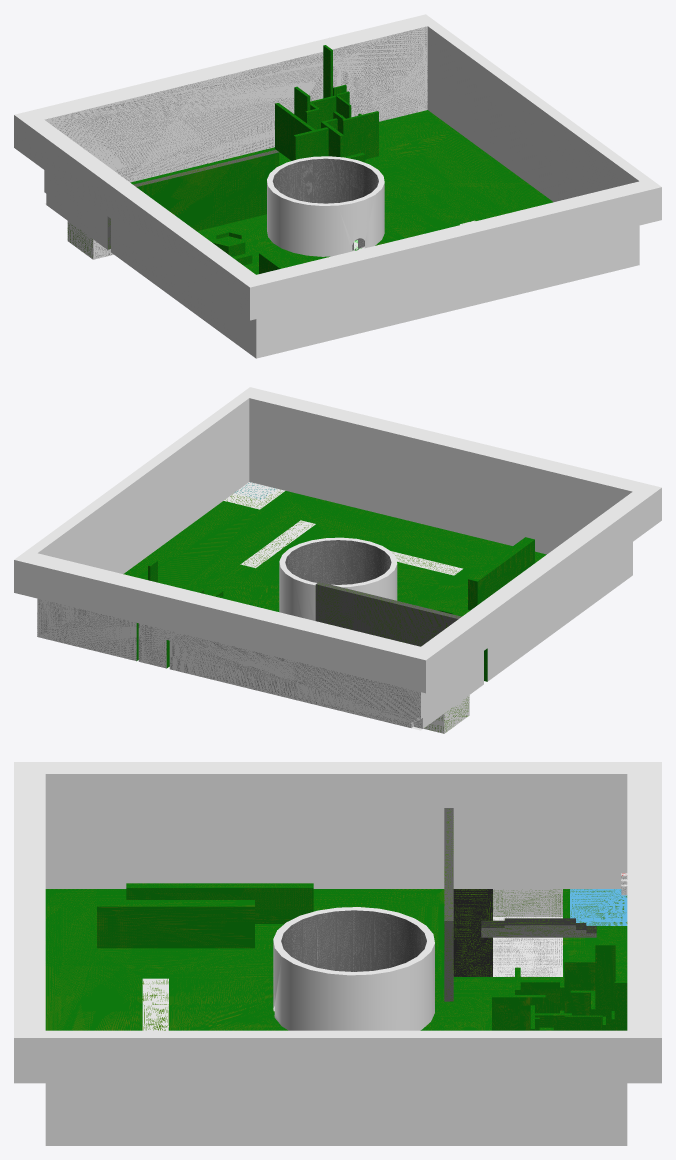
The model's file is AMazeIngMap.dae.
3 views of the same model, one above another, from view 1: azimuth 30°, elevation 25°; view 2: azimuth 150°, elevation 25°; view 3: azimuth 270°, elevation 25° (orthographic). The views are drawn at different scales.
Visible parts, largest first — view 1: SketchUp (×8); view 2: SketchUp (×11); view 3: SketchUp (×14).
Boxes of the visible parts, x1,y1,x2,y2 form: SketchUp (×8): (14,14,661,358); SketchUp (×11): (14,387,661,733); SketchUp (×14): (14,762,661,1145).
Bounding box in the file's own units: 10995 × 10913 × 2924.
